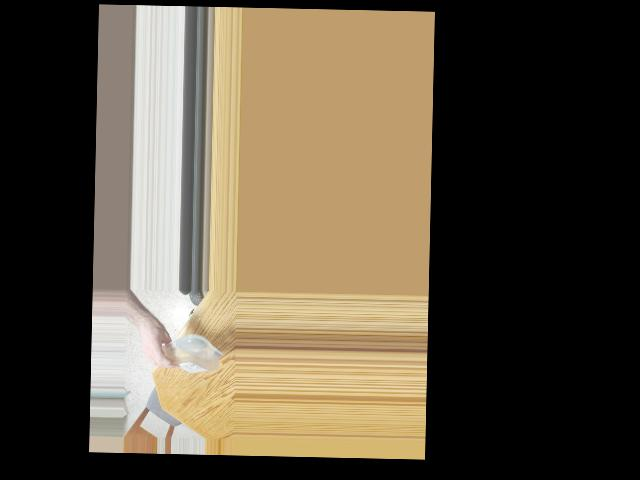cheese: (150, 336, 222, 375)
